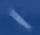Squash-Ball: (0, 1, 40, 35)
